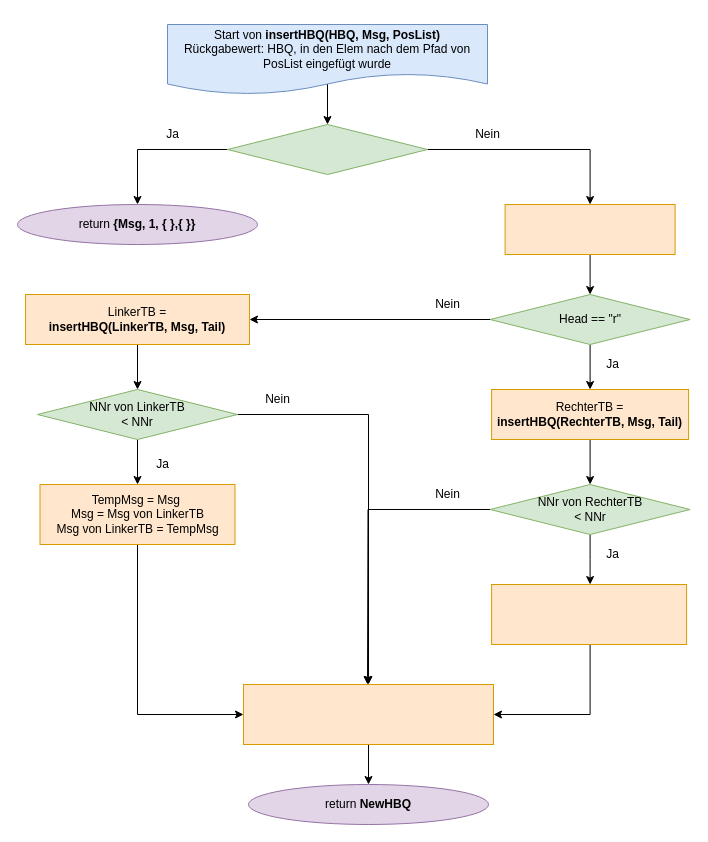
This 708x842 diagram has some shape labels left out. The box of each missing label's shape, as (x1, y1, x2, y2) in pixels:
isEmptyHBQ(PosList): (226, 124, 428, 174)
NewHBQ = {Msg, max(Höhe<LinkerTB>, Höhe<RechterTB> , LinkerTB, RechterTB}: (242, 684, 494, 744)
Teile PosList in 1. Element = Head und Rest = Tail auf: (504, 204, 675, 254)
TempMsg = Msg Msg = Msg von RechterTB Msg von RechterTB = TempMsg: (491, 584, 687, 644)
